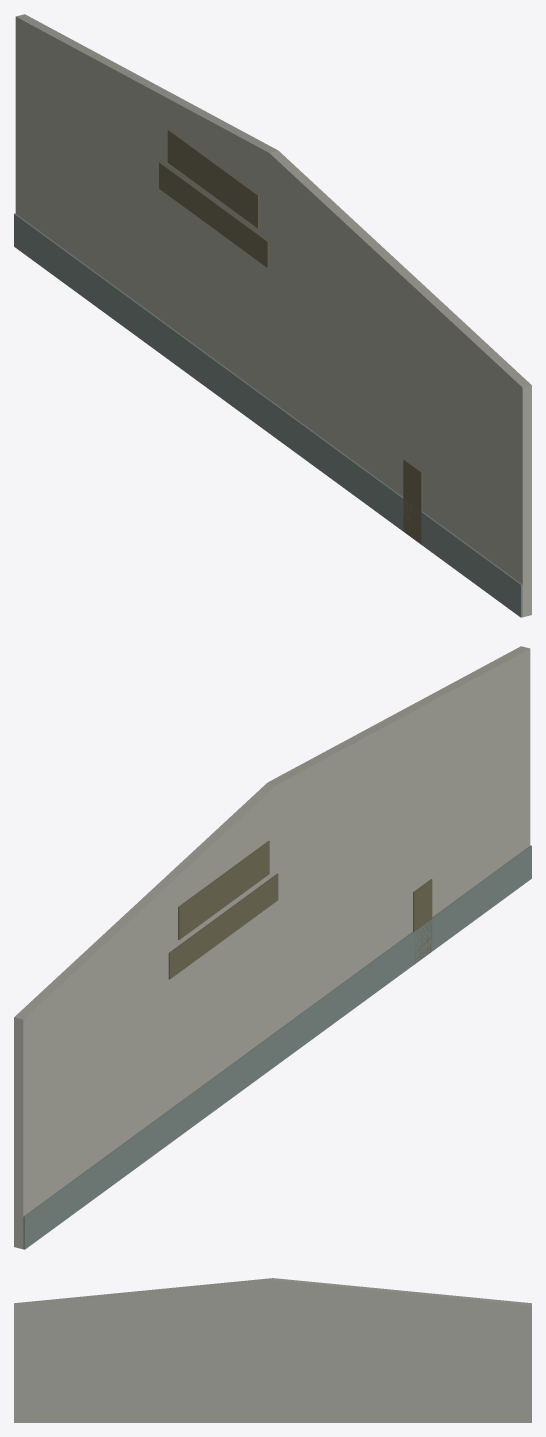
The model's file is SM_NavePoligono_Testero_e3_Quemada_LOD0.fbx.
3 renders of one model, top to bottom at view 1: azimuth 30°, elevation 25°; view 2: azimuth 150°, elevation 25°; view 3: azimuth 270°, elevation 25°, orthographic. The views are drawn at different scales.
Visible parts, largest first — view 1: SM_nave_poligono_v8_LOD0; view 2: SM_nave_poligono_v8_LOD0; view 3: SM_nave_poligono_v8_LOD0.
Boxes of the visible parts, <box> form: SM_nave_poligono_v8_LOD0: <box>14,14,531,617</box>; SM_nave_poligono_v8_LOD0: <box>14,646,531,1249</box>; SM_nave_poligono_v8_LOD0: <box>14,1278,531,1422</box>.
Size of the model in its own units: 0.36 by 8.5 by 28.
